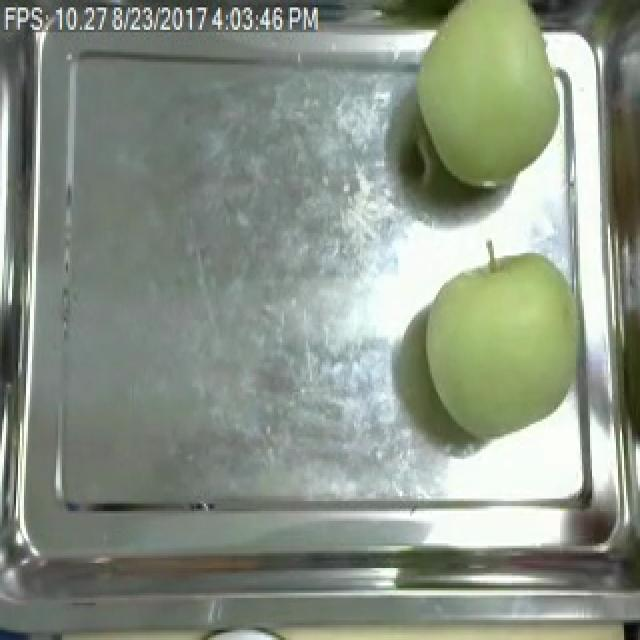50-_ripeness: (425, 231, 587, 445), (401, 0, 570, 199)
